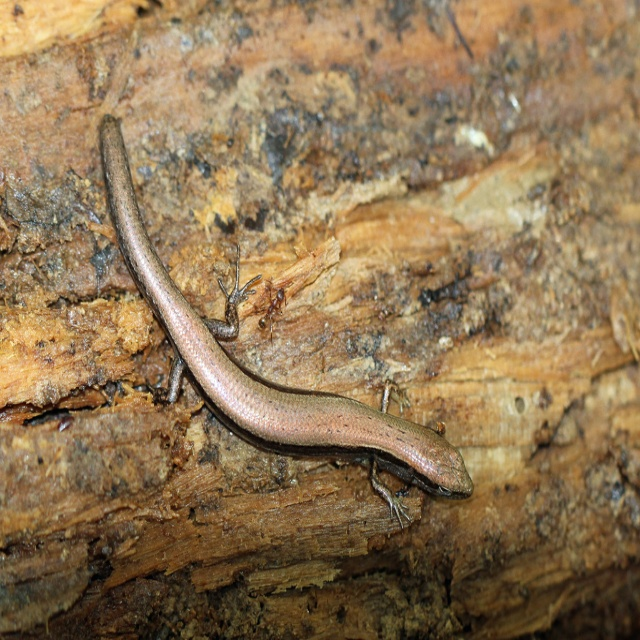Lizard: (91, 146, 473, 555)
